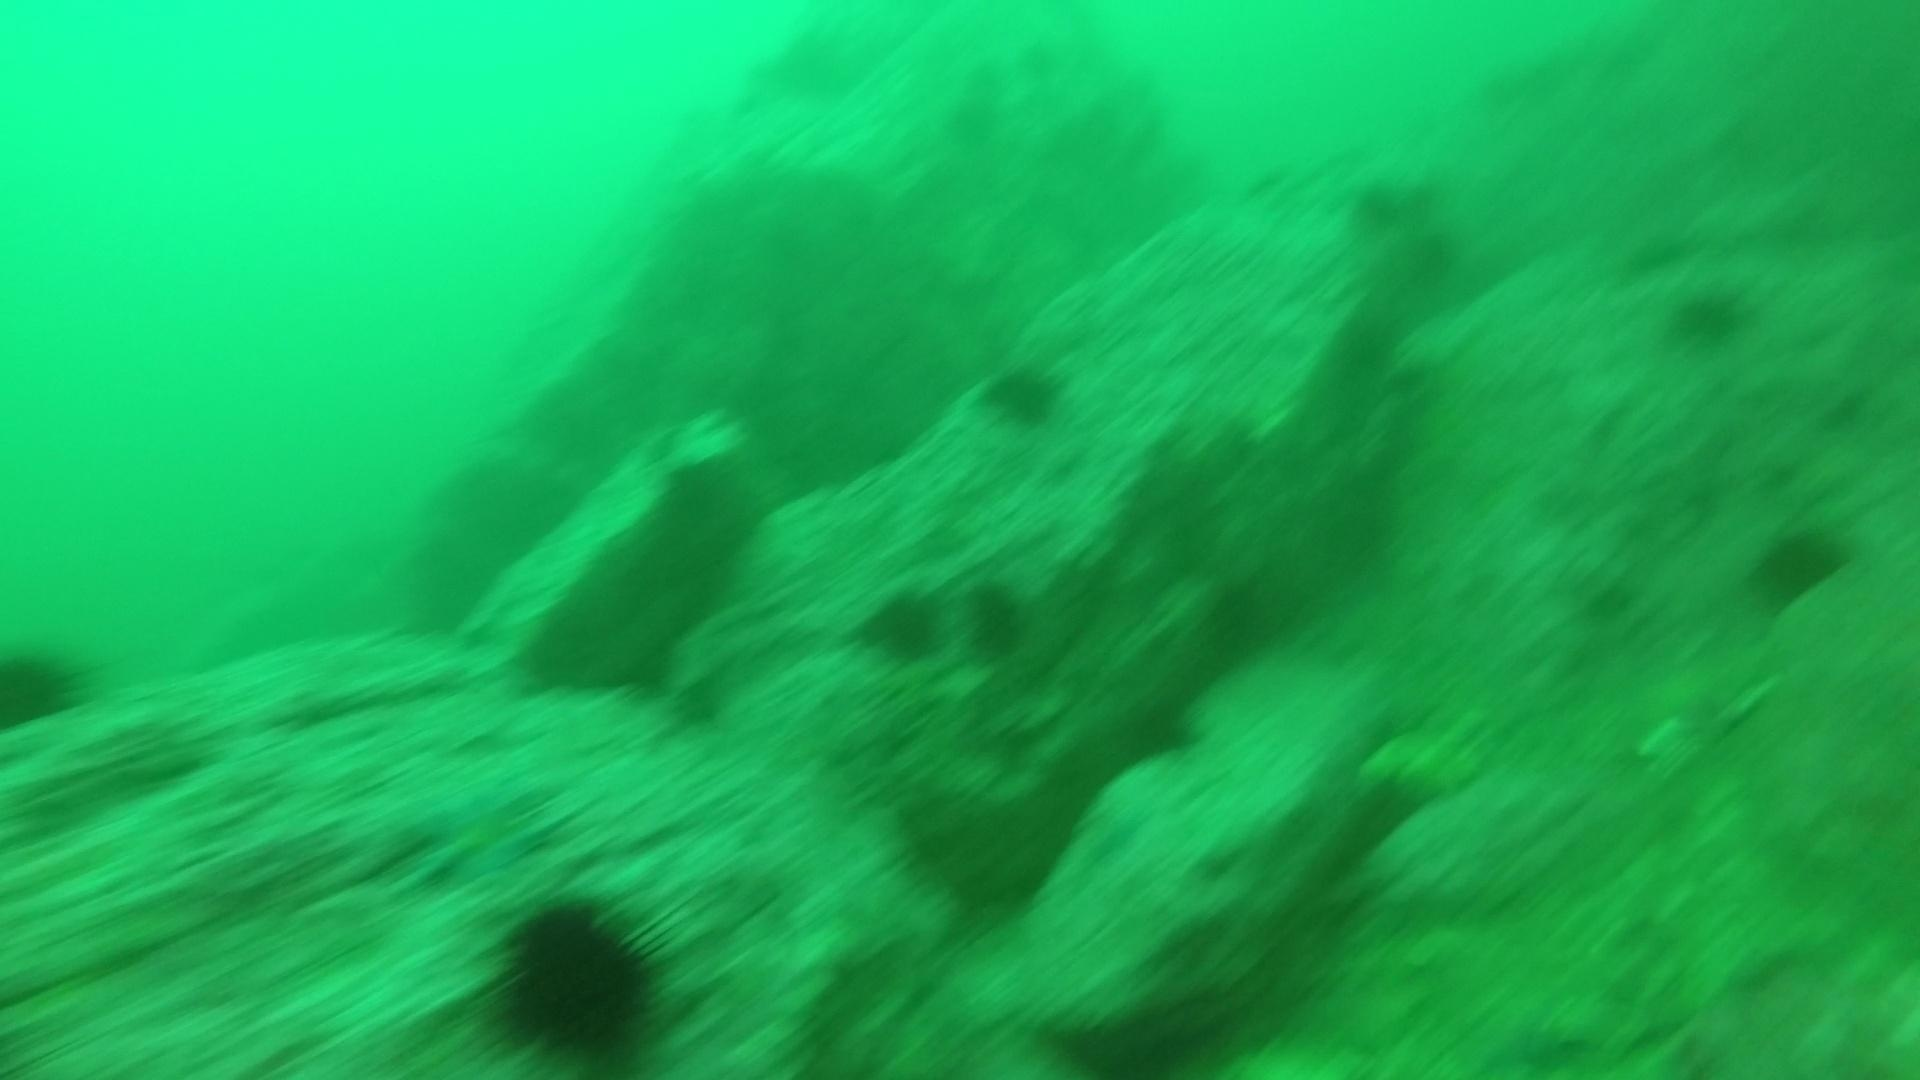echinus: (479, 887, 678, 1065), (1745, 516, 1855, 611), (1, 636, 91, 736), (856, 583, 949, 666), (1662, 276, 1755, 352), (977, 356, 1069, 433), (960, 575, 1034, 663), (1345, 179, 1398, 240), (1396, 223, 1449, 284)
starfish: (406, 779, 560, 887)
